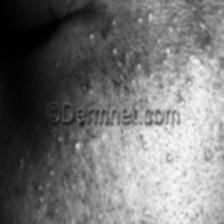Non-Cancerous Skin Condition: (85, 1, 203, 92), (4, 155, 144, 224)
